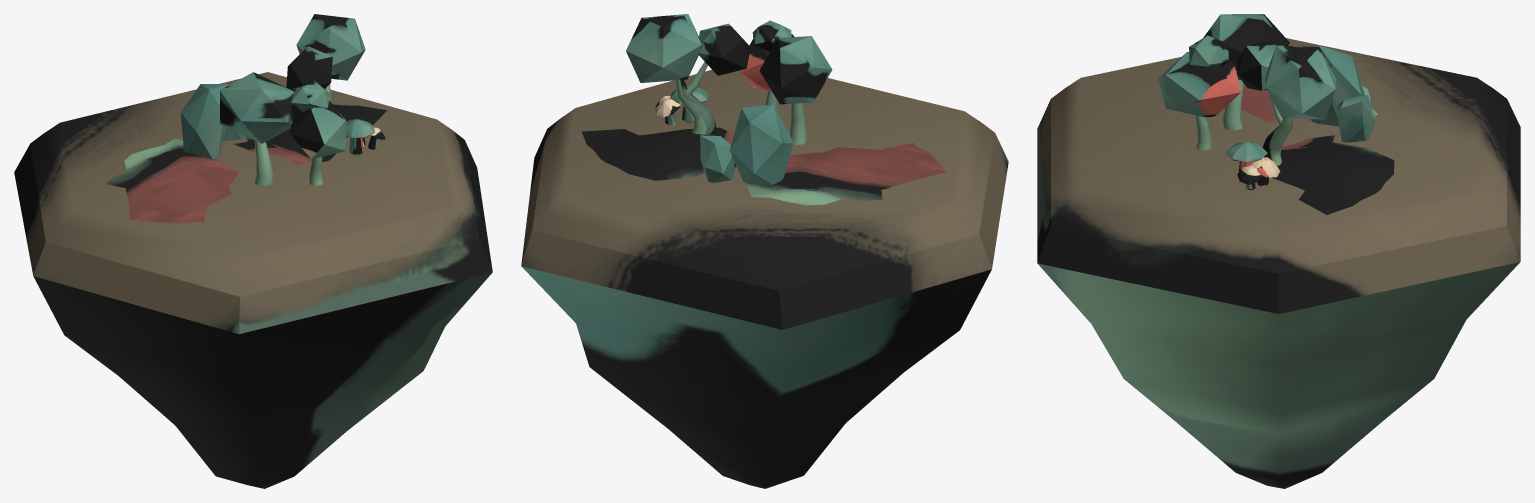
File: islet_3.fbx
3 views of the same model, side by side, from view 1: azimuth 30°, elevation 25°; view 2: azimuth 150°, elevation 25°; view 3: azimuth 270°, elevation 25° (orthographic). The views are drawn at different scales.
Parts seen in each view (by area): view 1: polySurface571; view 2: polySurface571; view 3: polySurface571.
Part boxes in pixels (bbox=[...]): polySurface571: bbox=[14, 14, 492, 488]; polySurface571: bbox=[521, 14, 1008, 488]; polySurface571: bbox=[1037, 14, 1520, 488].
Size of the model in its own units: 11.53 by 10.9 by 9.99.
